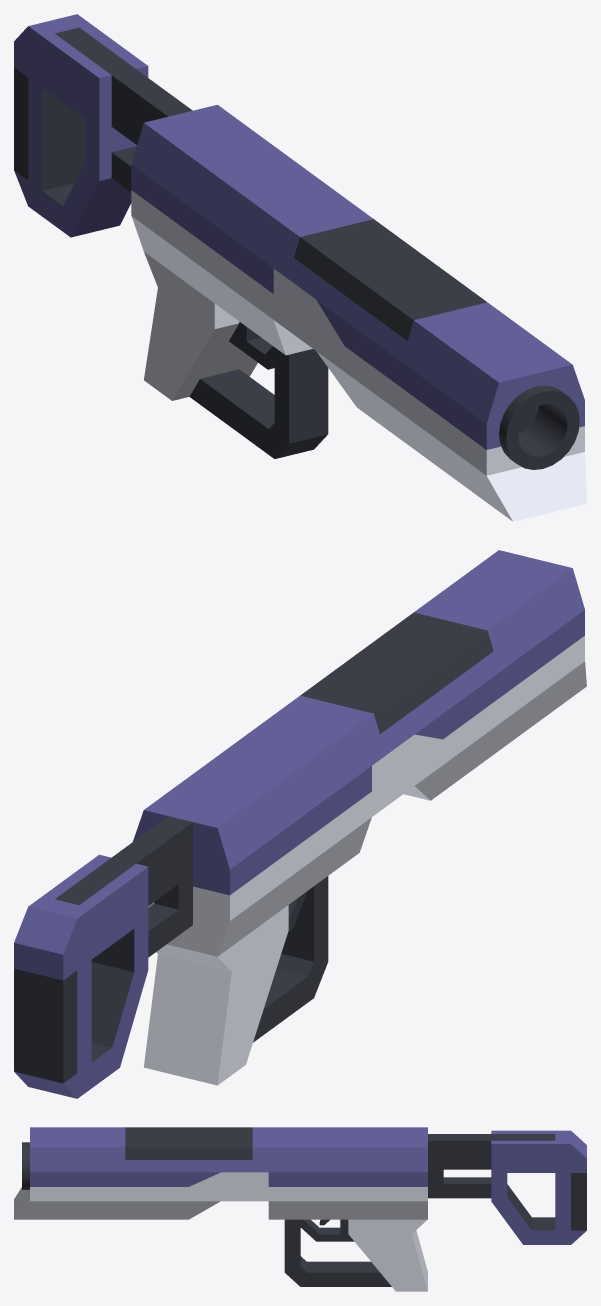
File: GunModel.obj
The picture shows the model from 3 angles, top to bottom: view 1: azimuth 30°, elevation 25°; view 2: azimuth 150°, elevation 25°; view 3: azimuth 270°, elevation 25°; orthographic projection. The views are drawn at different scales.
Visible parts, largest first — view 1: mergedBlocks; view 2: mergedBlocks; view 3: mergedBlocks.
Part boxes in pixels (box(x1,y1,x2,y2)): mergedBlocks: box(14, 14, 586, 521); mergedBlocks: box(14, 550, 586, 1098); mergedBlocks: box(14, 1127, 586, 1291).
Size of the model in its own units: 0.4 by 1 by 3.6.
